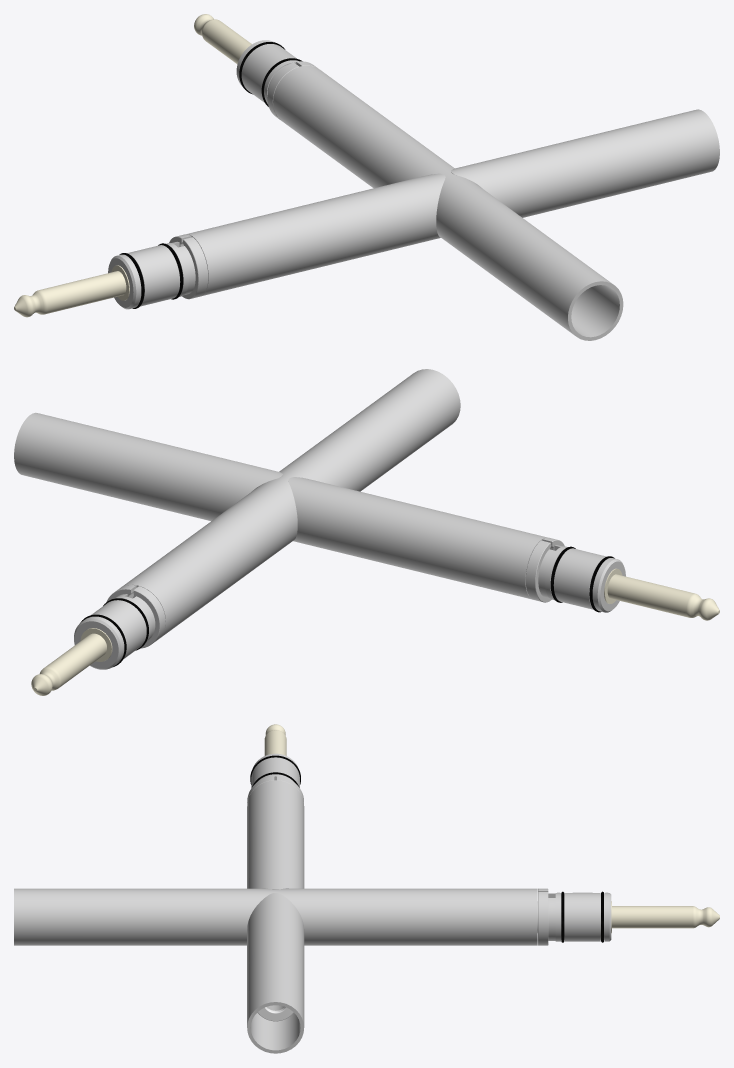
Rendered from CrossJoint.glb.
3 renders of one model, top to bottom at view 1: azimuth 30°, elevation 25°; view 2: azimuth 150°, elevation 25°; view 3: azimuth 270°, elevation 25°, orthographic. The views are drawn at different scales.
Parts seen in each view (by area): view 1: Body1.049; view 2: Body1.049; view 3: Body1.049.
Part boxes in pixels (x1,y1,x2,y2): Body1.049: (14, 14, 719, 340); Body1.049: (14, 369, 719, 695); Body1.049: (14, 724, 719, 1053).
Size of the model in its own units: 1.98 by 0.1606 by 1.98.
